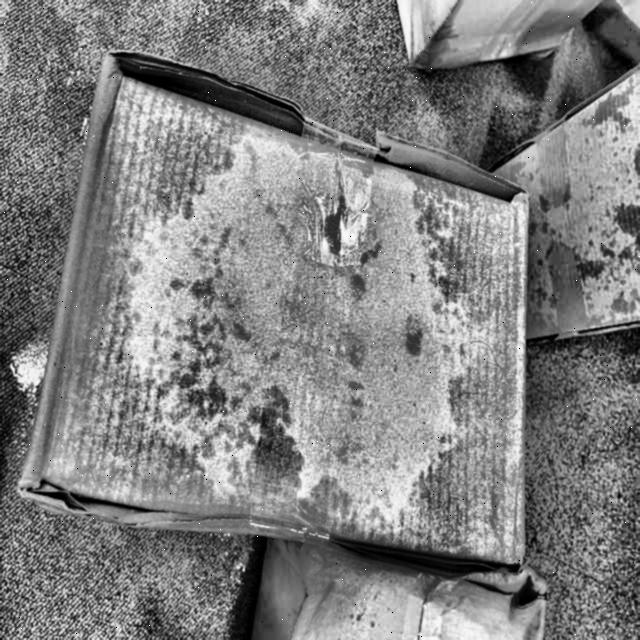box: (38, 29, 547, 599)
wet: (67, 68, 277, 509), (413, 176, 531, 574)
